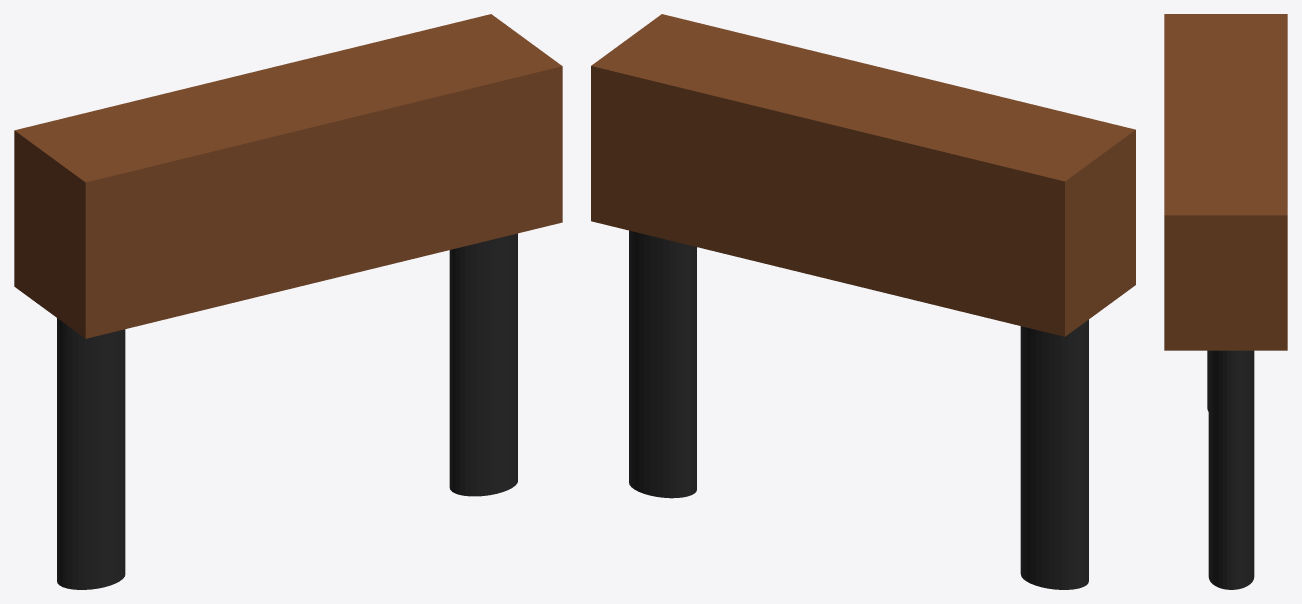
File: GATE.fbx
3 views of the same model, side by side, from view 1: azimuth 30°, elevation 25°; view 2: azimuth 150°, elevation 25°; view 3: azimuth 270°, elevation 25° (orthographic). The views are drawn at different scales.
Parts seen in each view (by area): view 1: Cylinder; view 2: Cylinder; view 3: Cylinder.
Part boxes in pixels (<box>): Cylinder: <box>14,14,562,589</box>; Cylinder: <box>591,14,1135,589</box>; Cylinder: <box>1164,14,1287,589</box>.
Bounding box in the file's own units: 1162 × 1017 × 301.
